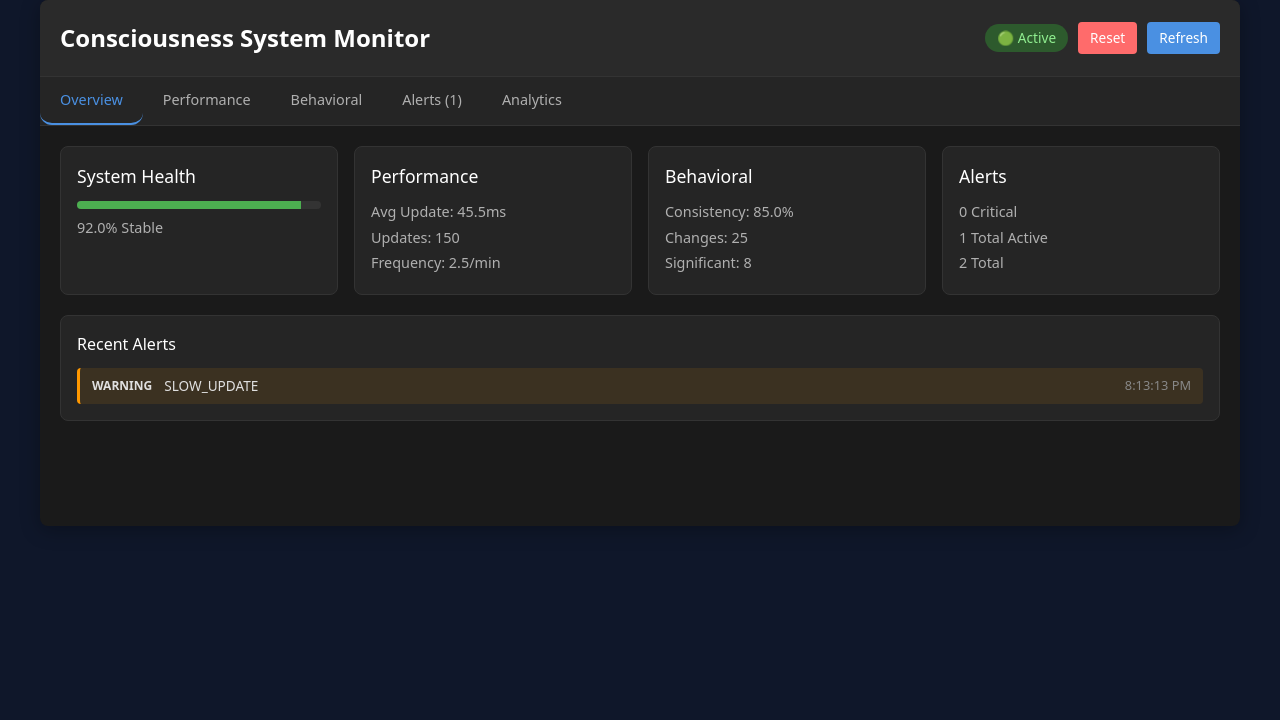
ConsciousnessMonitoringDashboard › Behavioral Tab › should show no decision data message
What coordinates should you click on to do the following:
click the button "Behavioral"
I would click on:
 (326, 101)
Its box is [271,77,382,125].
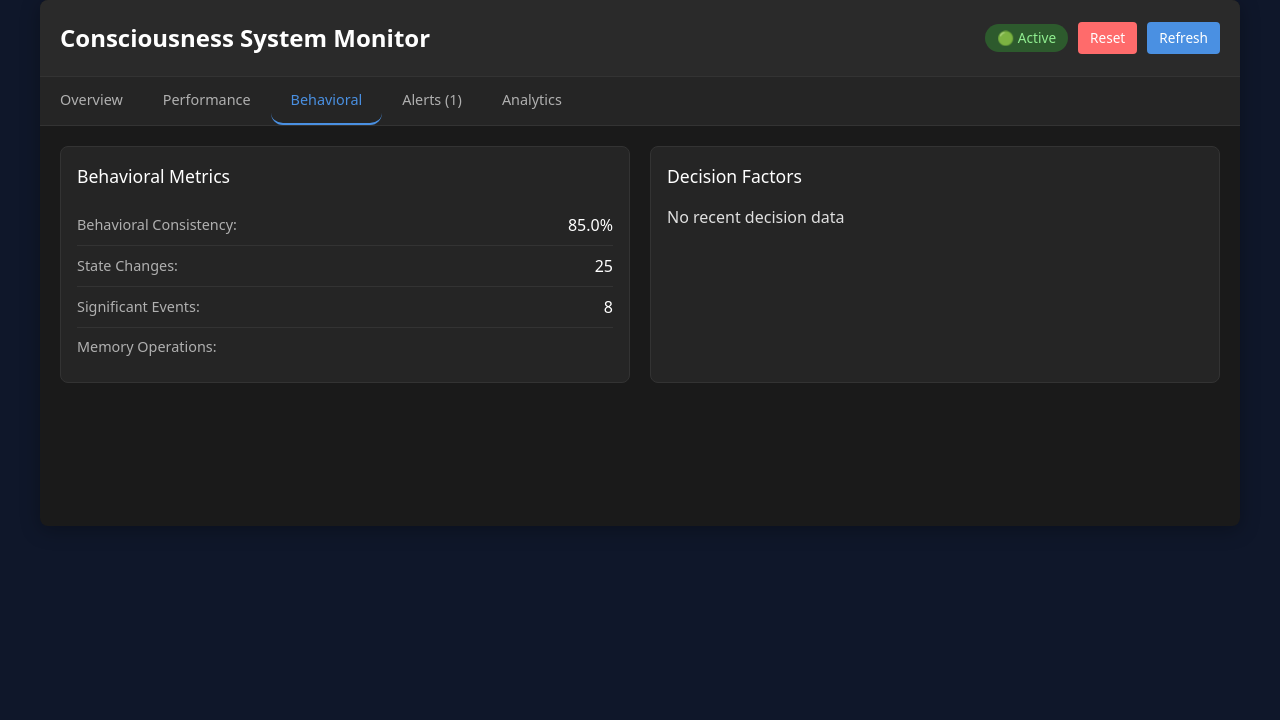
Expected: the text "No recent decision data" is shown, [667,206,845,228]
